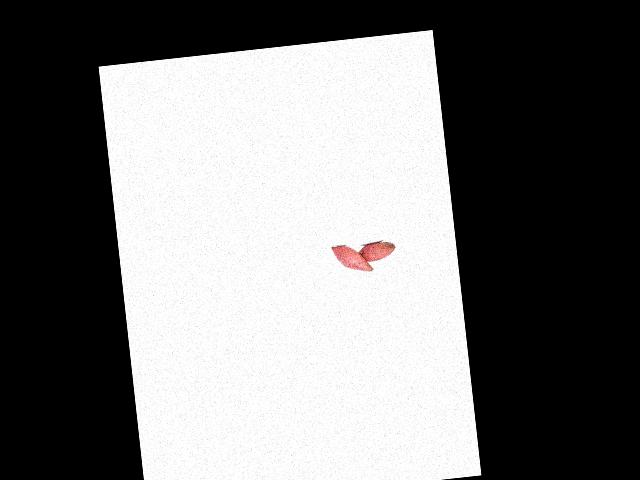sweet_potato: (354, 240, 398, 265)
